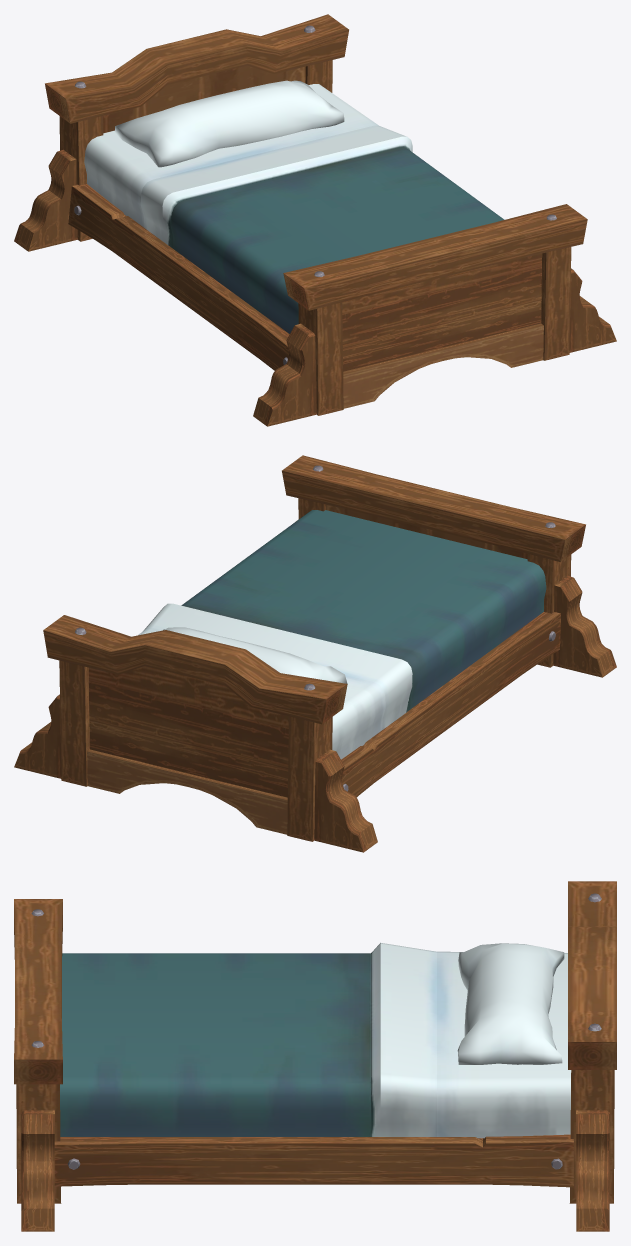
Rendered from Bed_Twin1.gltf.
The picture shows the model from 3 angles, top to bottom: view 1: azimuth 30°, elevation 25°; view 2: azimuth 150°, elevation 25°; view 3: azimuth 270°, elevation 25°; orthographic projection. The views are drawn at different scales.
Visible parts, largest first — view 1: Bed_Twin1; view 2: Bed_Twin1; view 3: Bed_Twin1.
Part boxes in pixels (bbox=[...]): Bed_Twin1: bbox=[14, 14, 616, 426]; Bed_Twin1: bbox=[14, 455, 616, 852]; Bed_Twin1: bbox=[14, 881, 616, 1231].
Bounding box in the file's own units: 1.88 × 0.8051 × 2.41.
3 materials, 3 textured.
